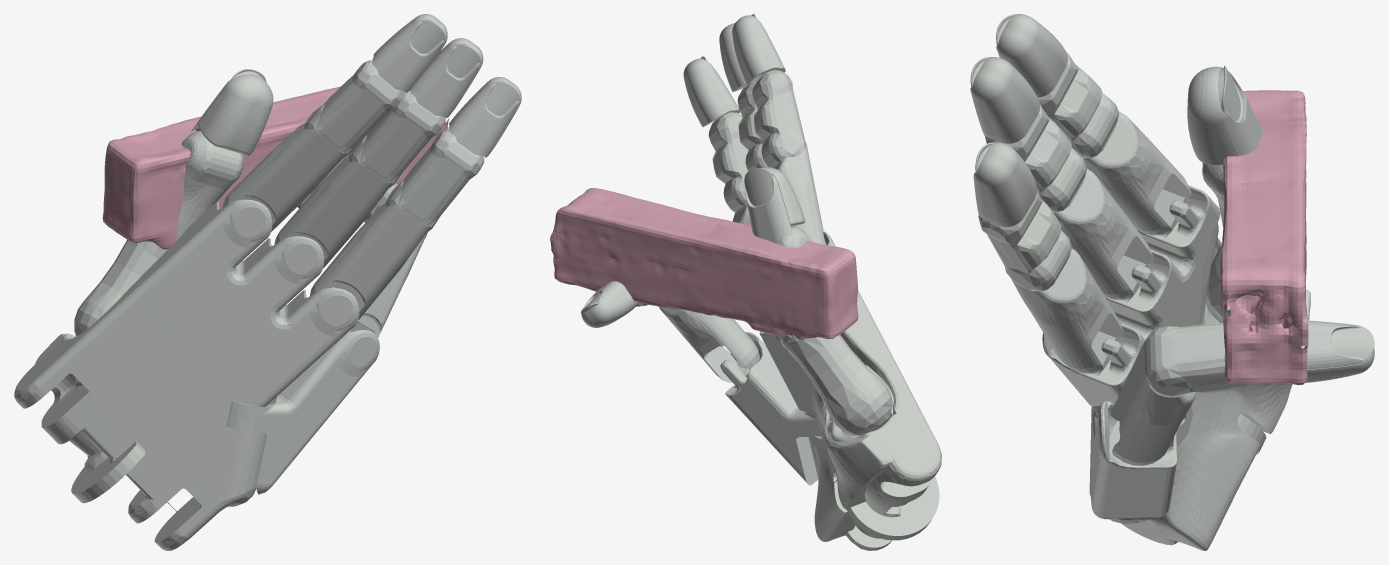
3 views of the same model, side by side, from view 1: azimuth 30°, elevation 25°; view 2: azimuth 150°, elevation 25°; view 3: azimuth 270°, elevation 25° (orthographic). The views are drawn at different scales.
Parts seen in each view (by area): view 1: hand, world; view 2: hand, world; view 3: hand, world.
Boxes of the visible parts, x1,y1,x2,y2 form: hand: [14, 14, 521, 550]; world: [102, 86, 448, 249]; hand: [580, 14, 941, 550]; world: [550, 188, 858, 339]; hand: [970, 14, 1374, 550]; world: [1220, 90, 1308, 384].
Bounding box in the file's own units: 0.171 × 0.2005 × 0.1134.
